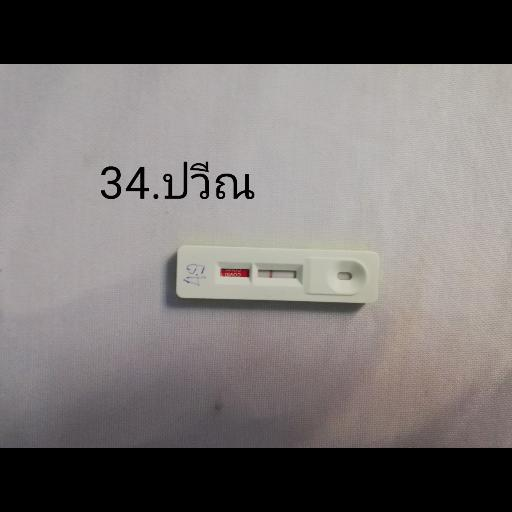Neg: (176, 248, 380, 304)
